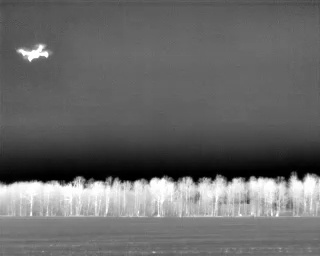DRONE: (12, 39, 55, 67)
